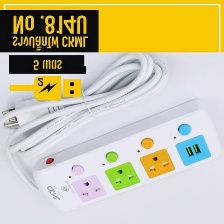three_eye_plug: (27, 92, 223, 216)
